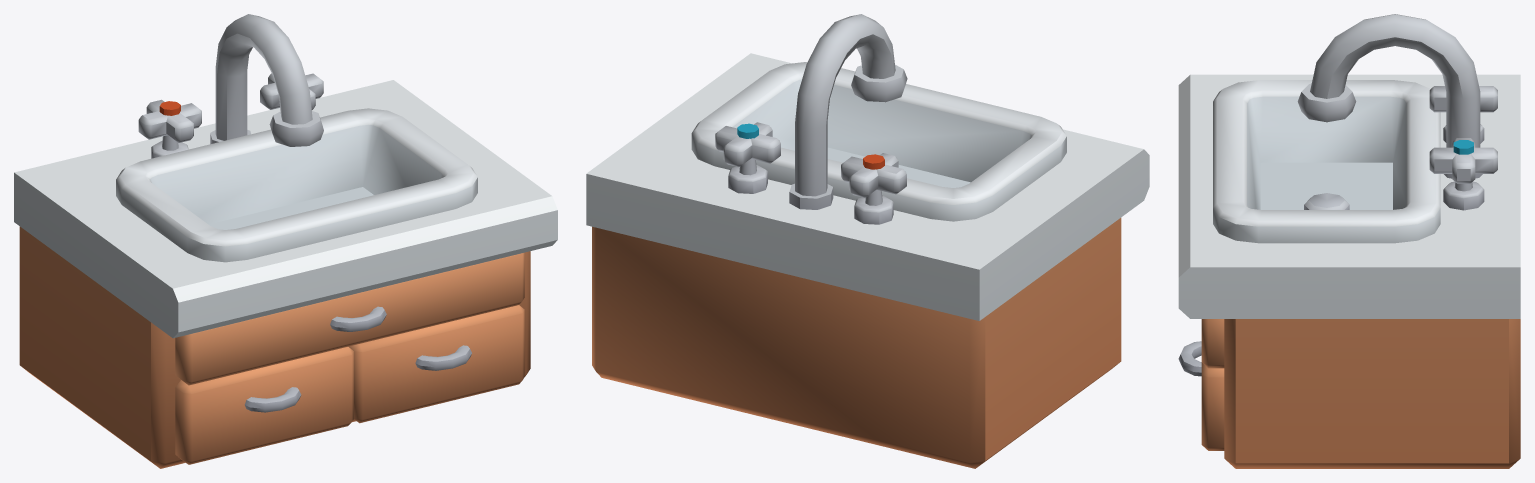
Rendered from Countertop Sink.glb.
3 views of the same model, side by side, from view 1: azimuth 30°, elevation 25°; view 2: azimuth 150°, elevation 25°; view 3: azimuth 270°, elevation 25° (orthographic). The views are drawn at different scales.
Visible parts, largest first — view 1: countertop_sink; view 2: countertop_sink; view 3: countertop_sink.
Part boxes in pixels (x1=…): countertop_sink: x1=14, y1=14, x2=557, y2=468; countertop_sink: x1=586, y1=14, x2=1149, y2=468; countertop_sink: x1=1178, y1=14, x2=1520, y2=468.
Size of the model in its own units: 2 by 1.76 by 1.5.
Materials: 1 (1 with a texture image).
